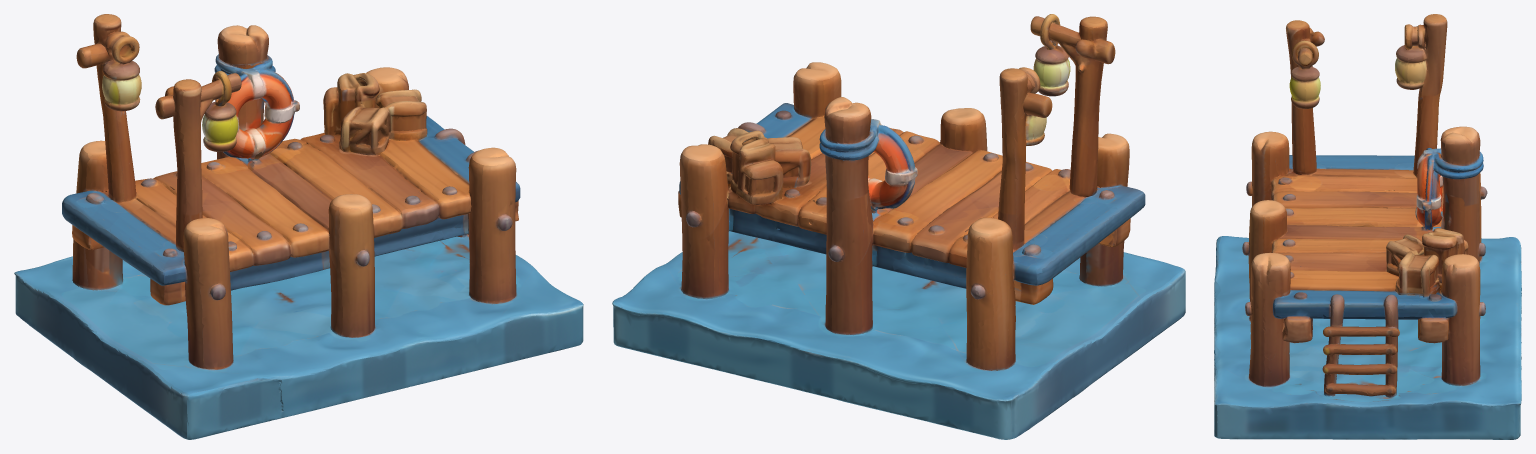
File: bld_dock_01.glb
3 renders of one model, left to right at view 1: azimuth 30°, elevation 25°; view 2: azimuth 150°, elevation 25°; view 3: azimuth 270°, elevation 25°, orthographic. The views are drawn at different scales.
Visible parts, largest first — view 1: geometry_0; view 2: geometry_0; view 3: geometry_0.
Boxes of the visible parts, x1=… form: geometry_0: x1=14, y1=14, x2=583, y2=439; geometry_0: x1=612, y1=14, x2=1185, y2=439; geometry_0: x1=1214, y1=14, x2=1521, y2=439.
Size of the model in its own units: 0.22 by 0.1707 by 0.1712.
Materials: 1 (1 with a texture image).
